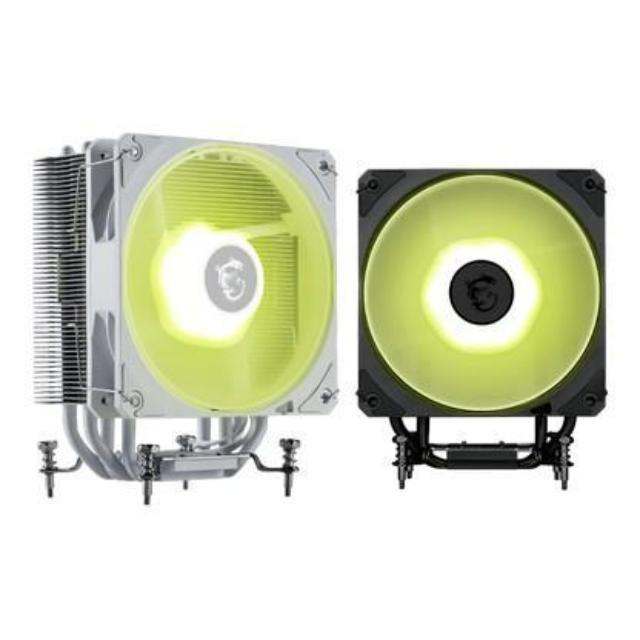CPU_Fan: (30, 128, 344, 512), (358, 166, 610, 484)
